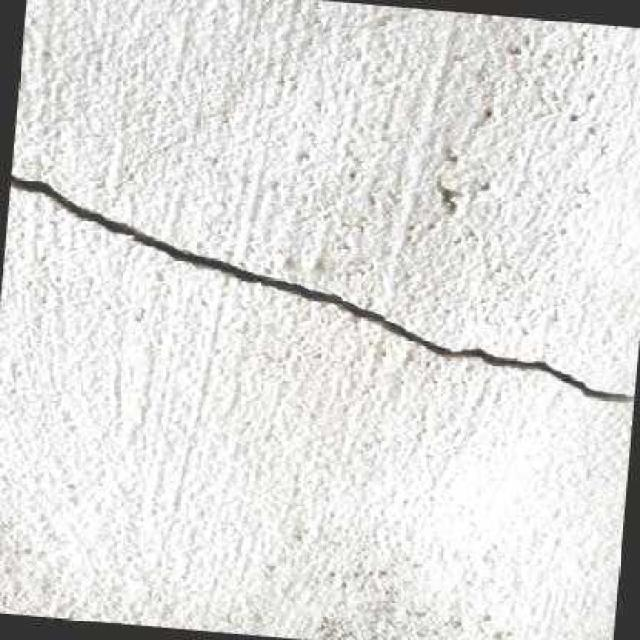D00: (11, 172, 635, 401)
